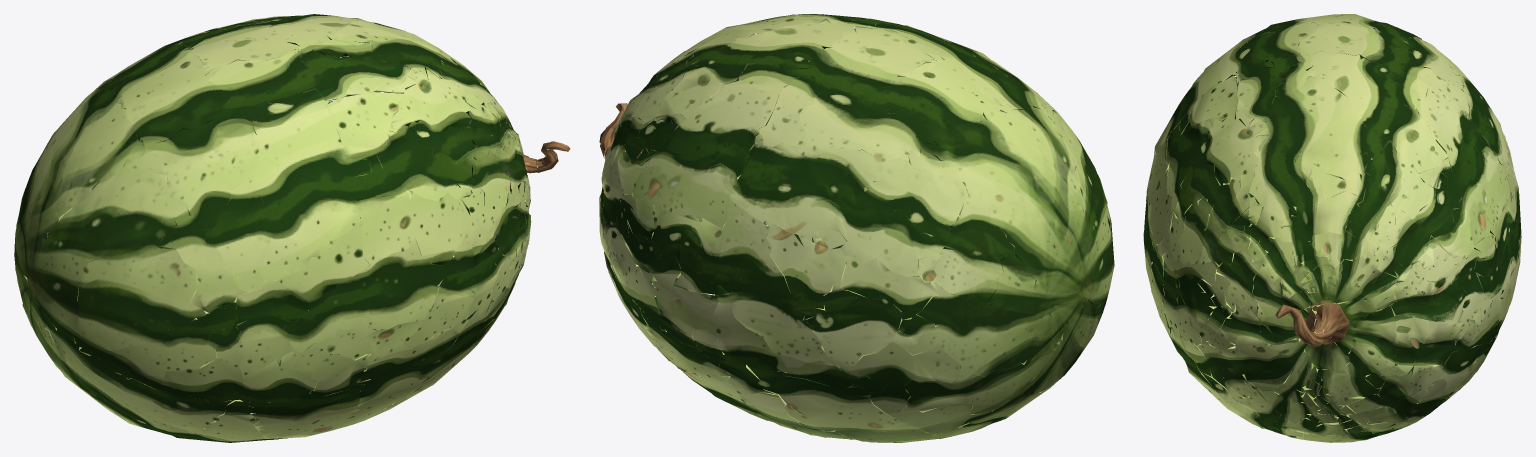
File: Watermelon.fbx
3 views of the same model, side by side, from view 1: azimuth 30°, elevation 25°; view 2: azimuth 150°, elevation 25°; view 3: azimuth 270°, elevation 25° (orthographic). The views are drawn at different scales.
Visible parts, largest first — view 1: Watermelon.007; view 2: Watermelon.007; view 3: Watermelon.007.
Part boxes in pixels (x1,y1,x2,y2): Watermelon.007: [14, 14, 570, 442]; Watermelon.007: [599, 14, 1114, 442]; Watermelon.007: [1143, 14, 1521, 442].
Size of the model in its own units: 0.624 by 0.45 by 0.4278.
Materials: 1 (1 with a texture image).
